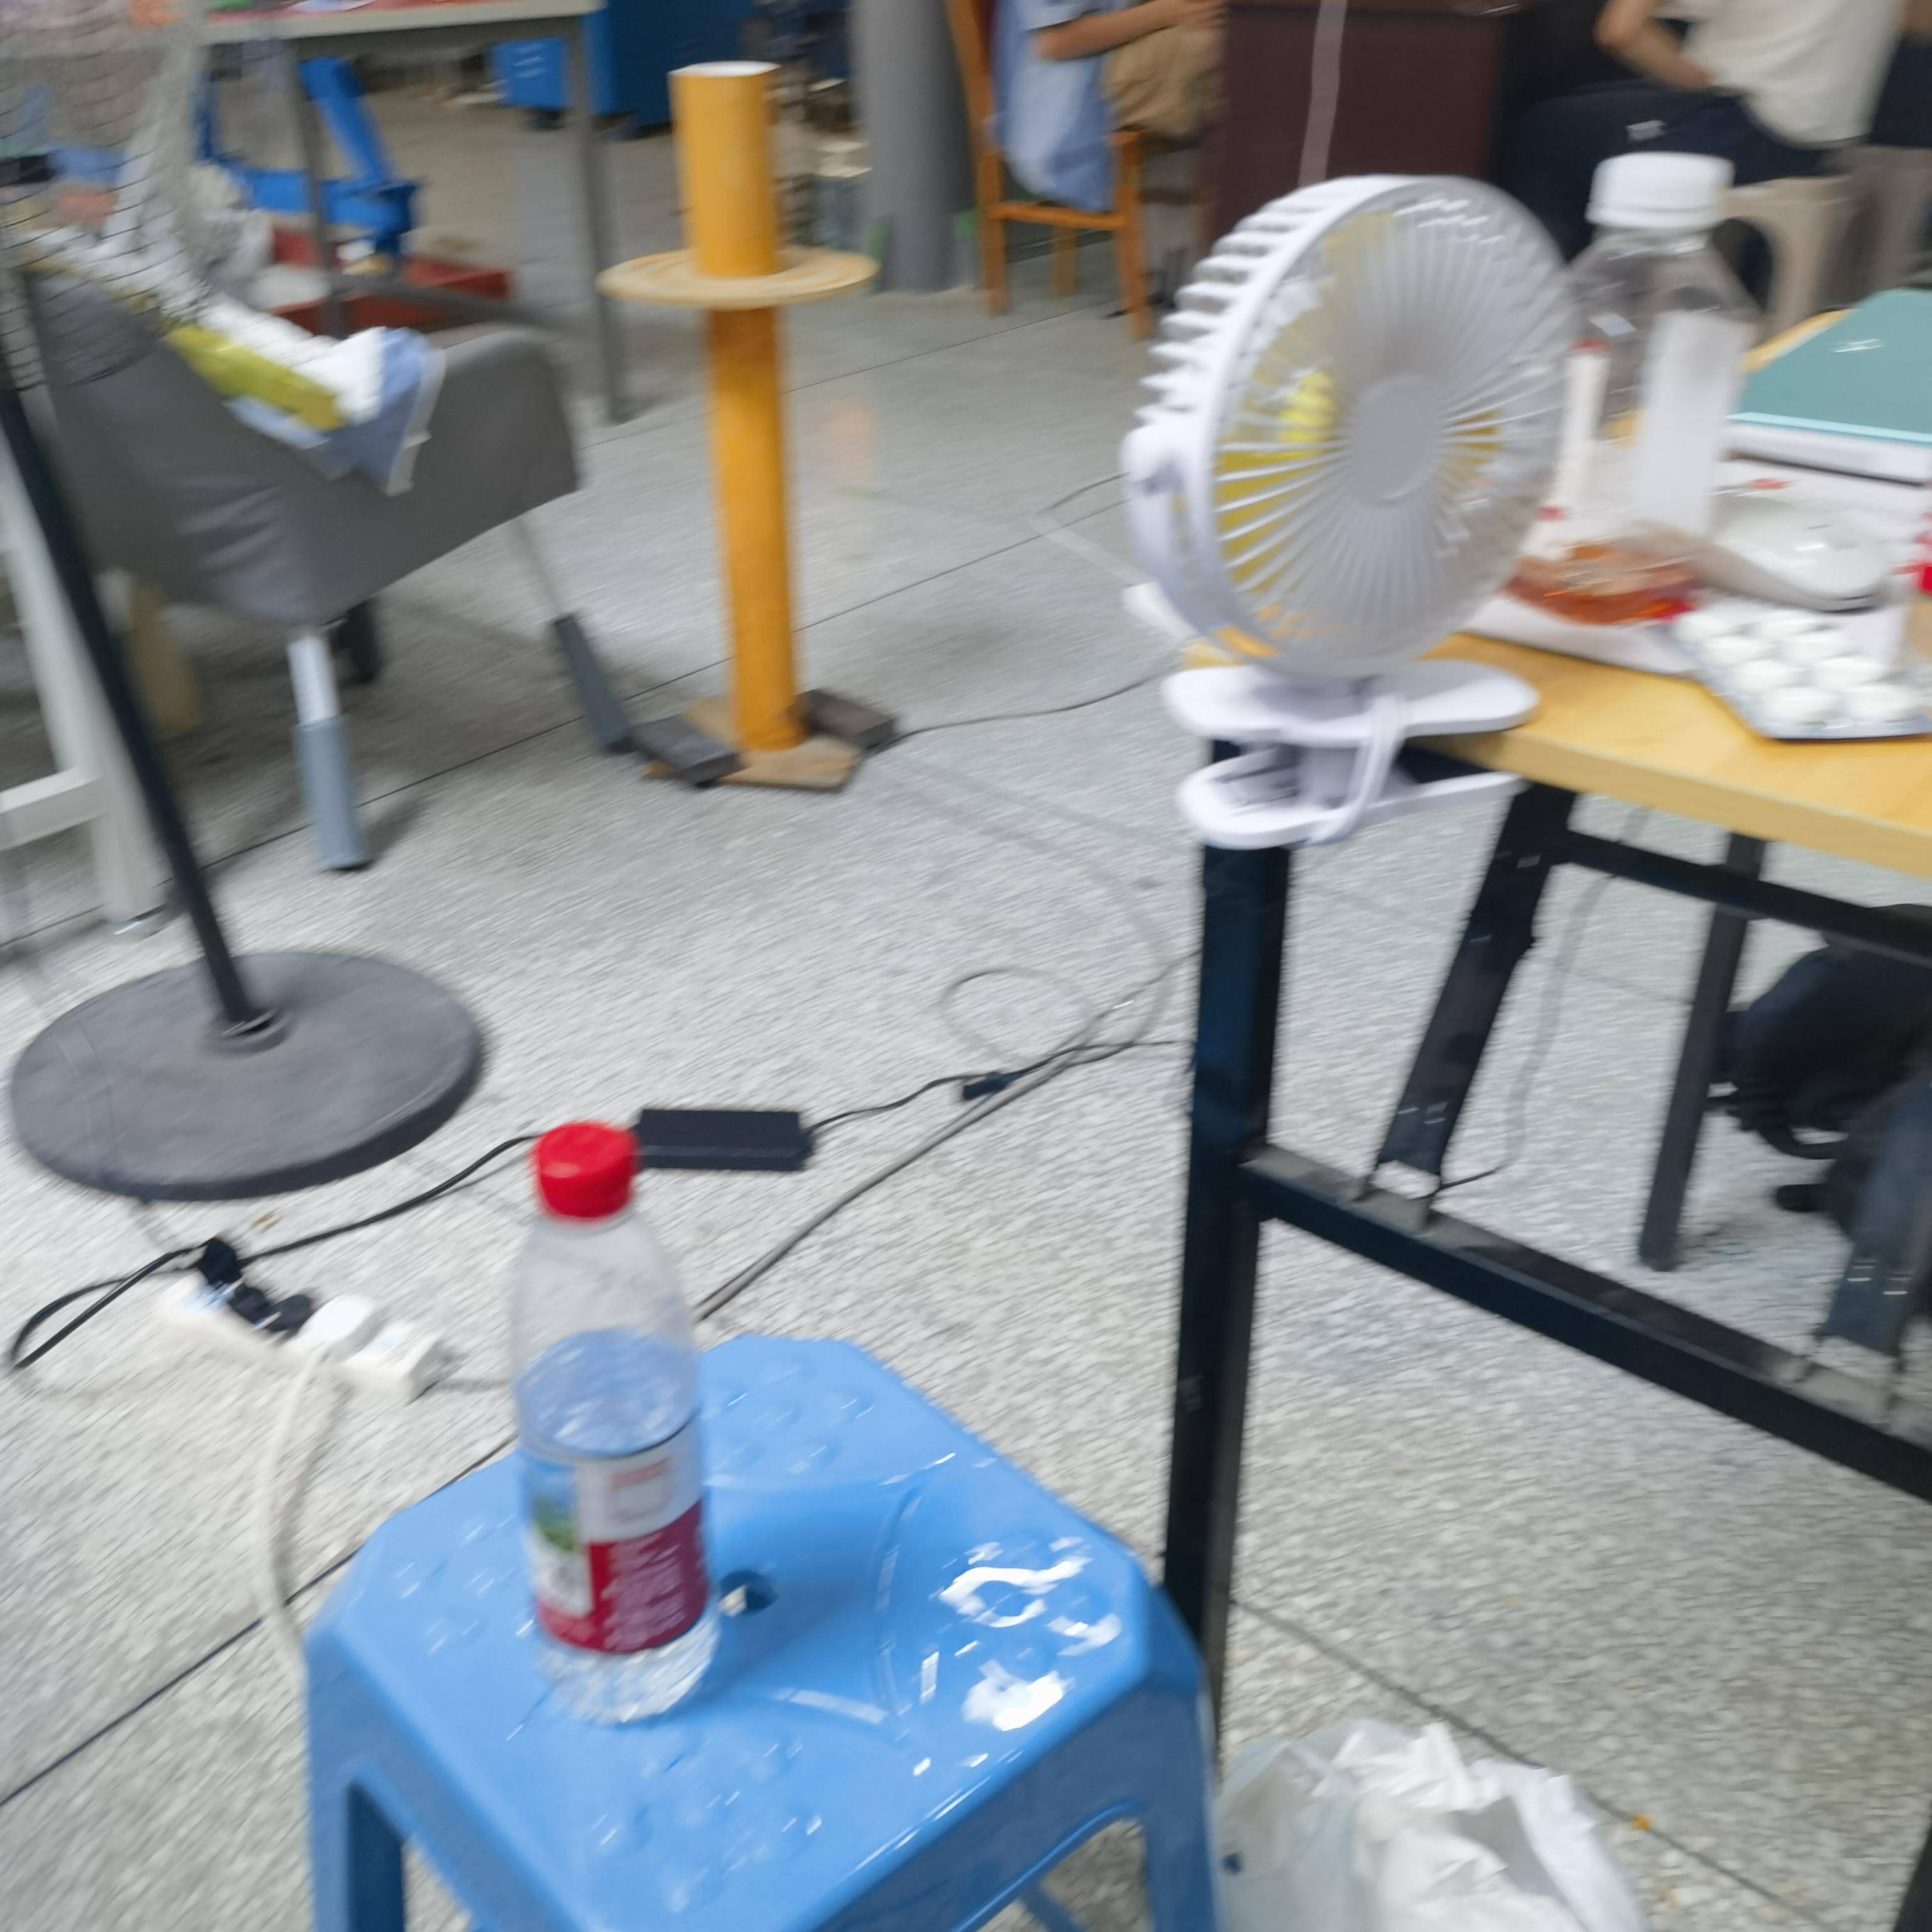bottle: (497, 1108, 738, 1750)
fan: (1113, 165, 1599, 867)
